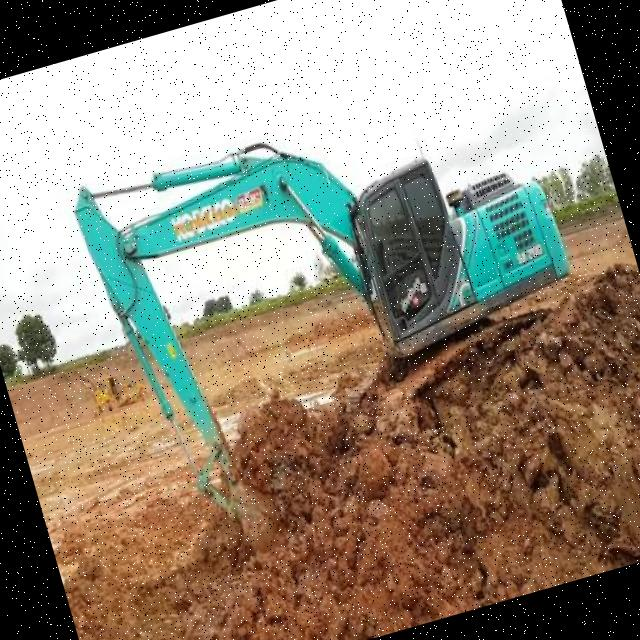Excavator: (66, 62, 624, 586)
